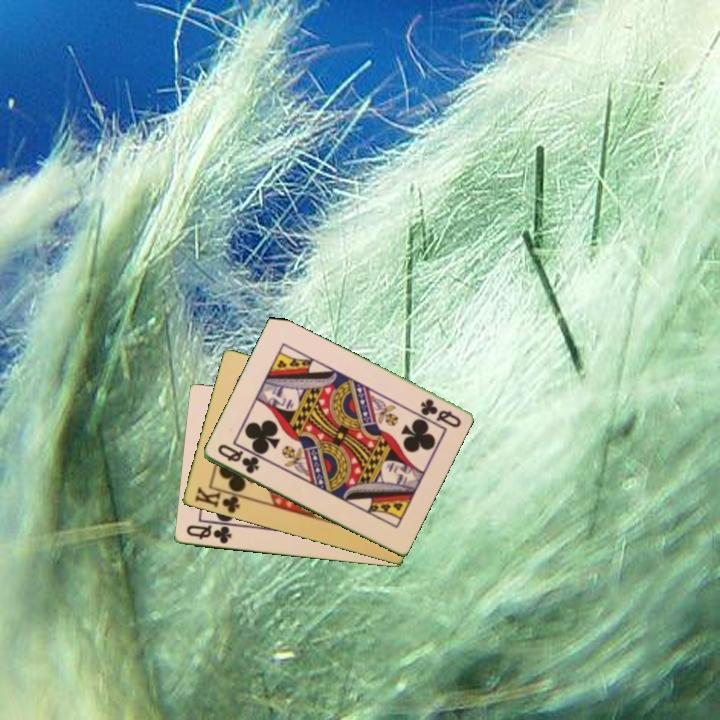Kc: (191, 483, 247, 517)
Qc: (214, 441, 262, 477), (416, 395, 464, 431), (182, 522, 234, 547)
